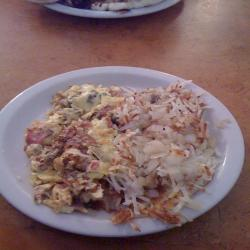rice: (35, 85, 192, 207)
